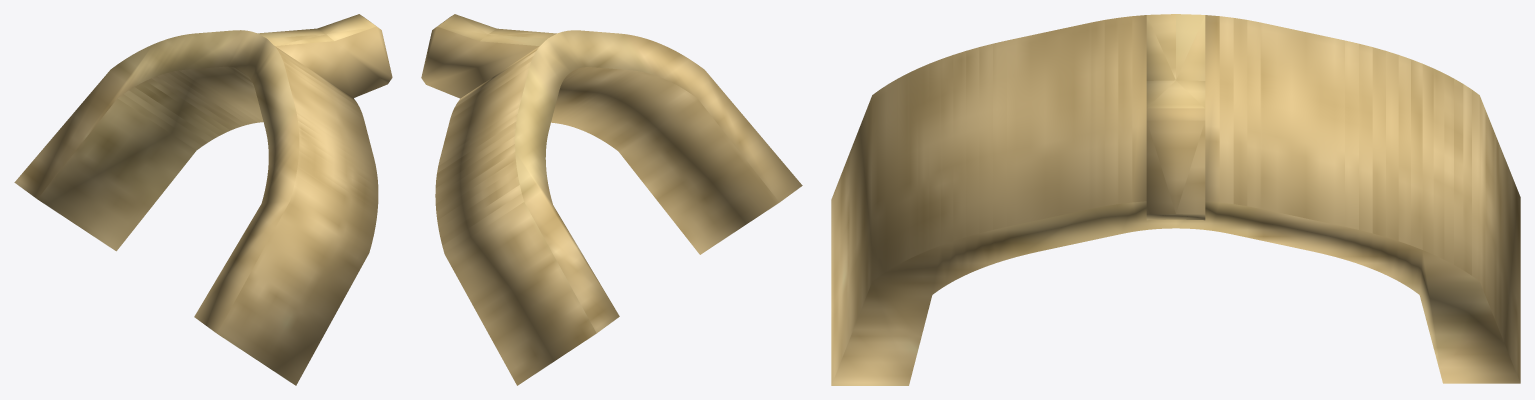
Rendered from strangeRock2.fbx.
3 renders of one model, left to right at view 1: azimuth 30°, elevation 25°; view 2: azimuth 150°, elevation 25°; view 3: azimuth 270°, elevation 25°, orthographic. The views are drawn at different scales.
Visible parts, largest first — view 1: pasted__group_4; view 2: pasted__group_4; view 3: pasted__group_4.
Boxes of the visible parts, bbox=[...] form: pasted__group_4: bbox=[14, 14, 392, 385]; pasted__group_4: bbox=[421, 14, 802, 385]; pasted__group_4: bbox=[831, 14, 1520, 385].
Bounding box in the file's own units: 7.72 × 7 × 10.12.
1 material, 1 textured.
